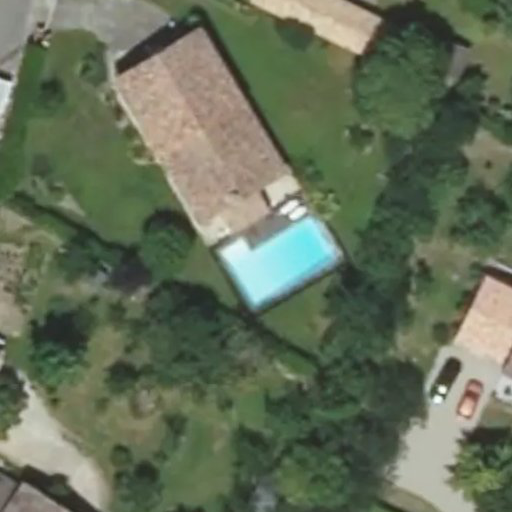pool: (218, 217, 337, 305)
